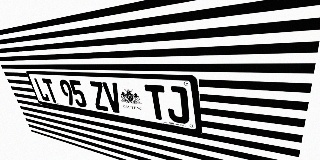5: (68, 80, 88, 108)
9: (58, 79, 77, 106)
J: (164, 86, 190, 125)
L: (33, 78, 50, 102)
T: (144, 84, 169, 121), (42, 78, 59, 103)
V: (102, 82, 124, 114)
Z: (88, 81, 109, 111)
